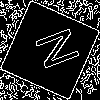N: (25, 25, 81, 75)
